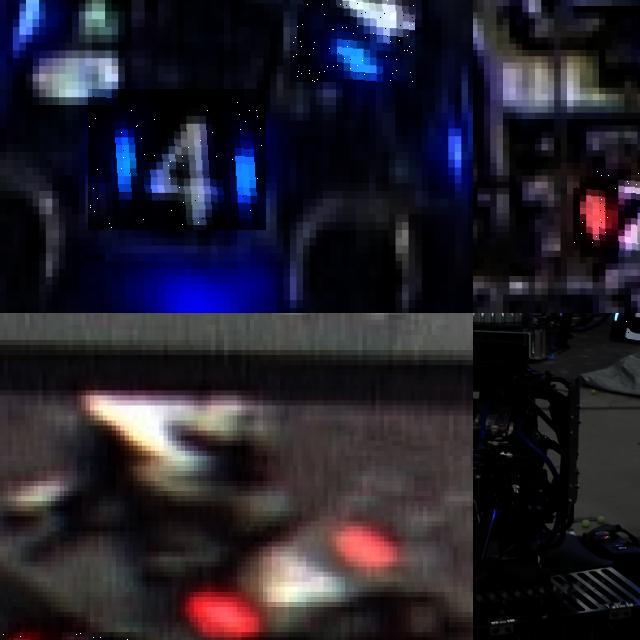B4: (88, 89, 266, 230), (289, 0, 415, 81)
R2: (573, 169, 640, 250)
